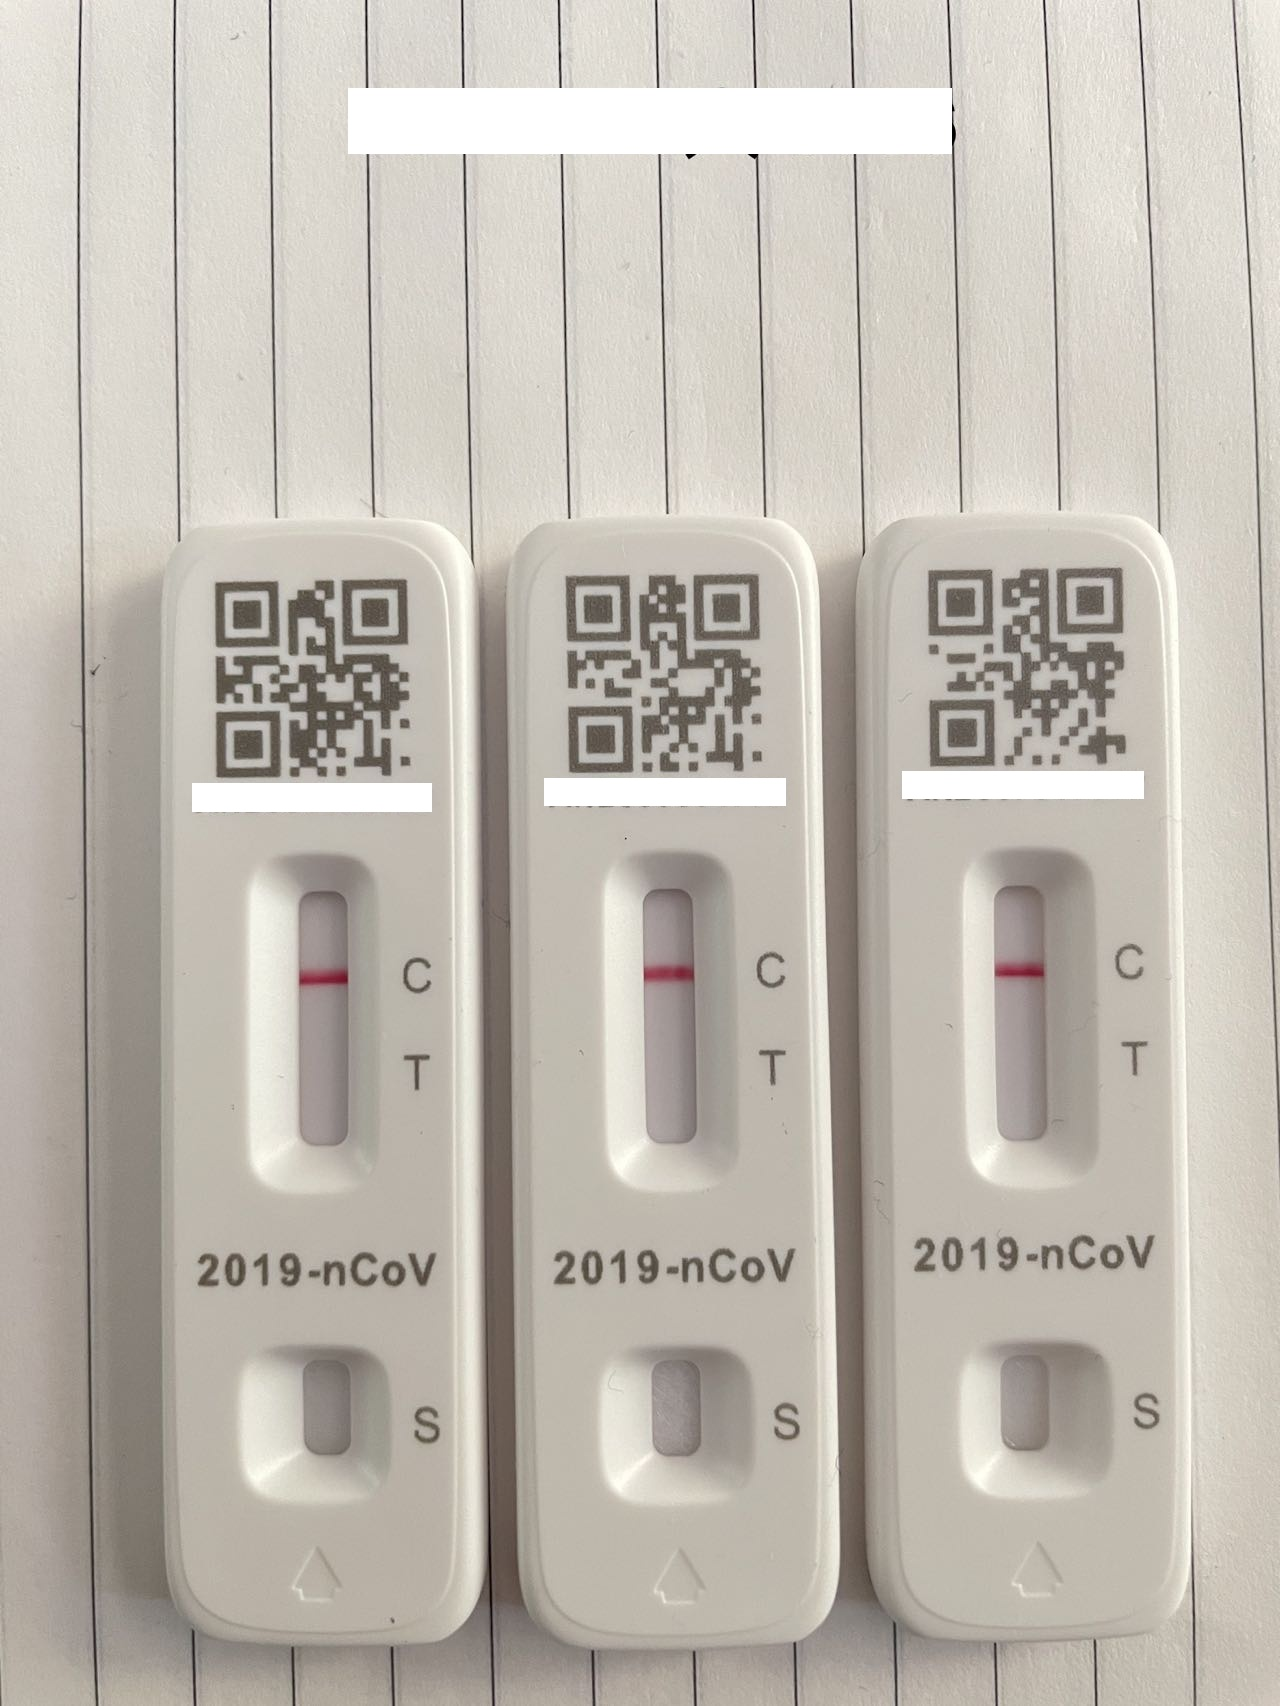negative: (602, 847, 734, 1206), (965, 844, 1094, 1209), (254, 846, 378, 1205)
